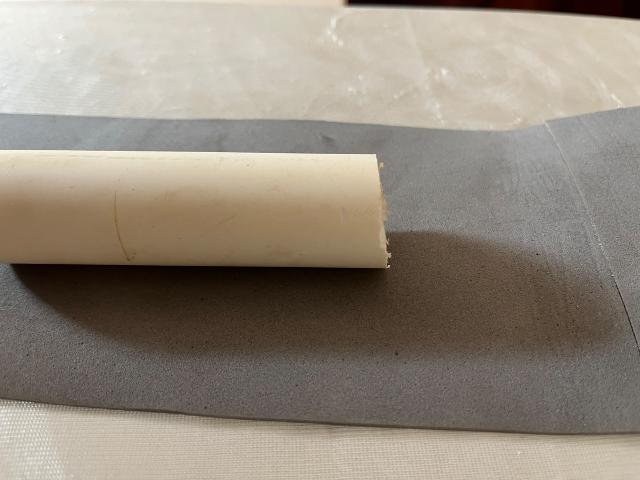PVC: (0, 107, 444, 341)
